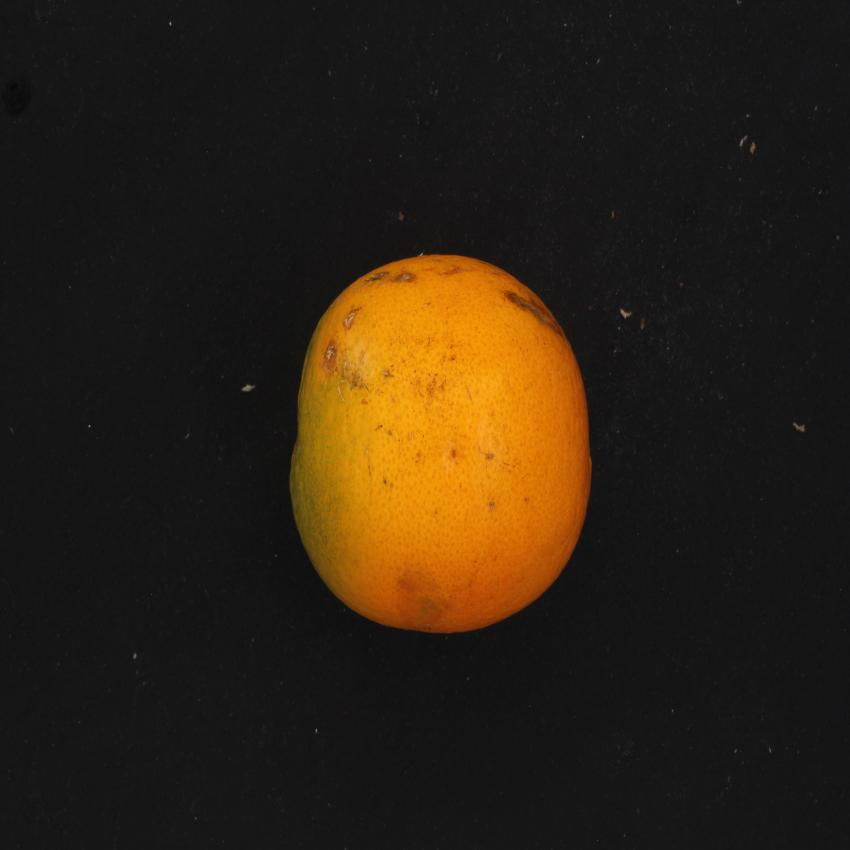Buen estado: (283, 242, 605, 644)
